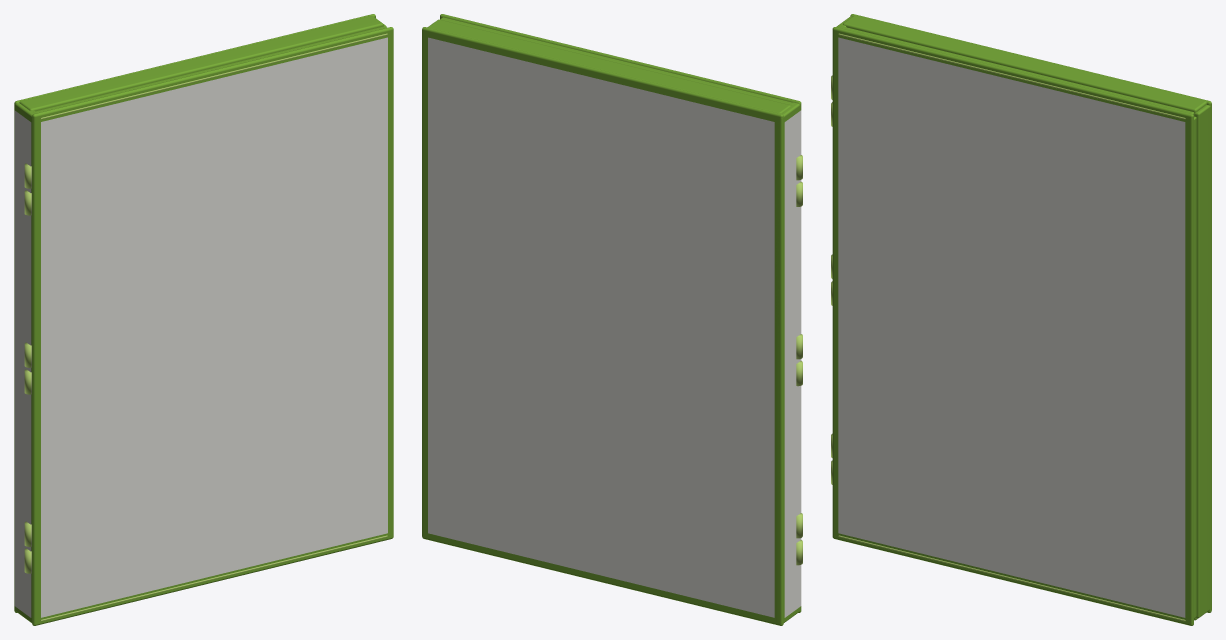
The model's file is xbox360-case.glb.
3 views of the same model, side by side, from view 1: azimuth 30°, elevation 25°; view 2: azimuth 150°, elevation 25°; view 3: azimuth 330°, elevation 25° (orthographic).
Parts seen in each view (by area): view 1: Case_Front, Lid_xbox360 injection moulded polypropylene, Case_Spine, Base_xbox360 injection moulded polypropylene, Lid_xbox360 polished moulded edges, Base_xbox360 polished moulded edges; view 2: Case_Back, Base_xbox360 injection moulded polypropylene, Case_Spine, Lid_xbox360 injection moulded polypropylene; view 3: Case_Front, Lid_xbox360 injection moulded polypropylene, Base_xbox360 injection moulded polypropylene, Lid_xbox360 polished moulded edges.
Part boxes in pixels (x1,y1,x2,y2): Case_Front: [41, 37, 387, 617]; Lid_xbox360 injection moulded polypropylene: [32, 26, 393, 625]; Case_Spine: [14, 110, 31, 617]; Base_xbox360 injection moulded polypropylene: [14, 14, 386, 622]; Lid_xbox360 polished moulded edges: [24, 33, 387, 621]; Base_xbox360 polished moulded edges: [24, 190, 31, 573]; Case_Back: [428, 37, 774, 617]; Base_xbox360 injection moulded polypropylene: [422, 19, 800, 625]; Case_Spine: [784, 110, 801, 617]; Lid_xbox360 injection moulded polypropylene: [440, 14, 801, 612]; Case_Front: [838, 37, 1185, 617]; Lid_xbox360 injection moulded polypropylene: [832, 26, 1196, 625]; Base_xbox360 injection moulded polypropylene: [836, 14, 1211, 620]; Lid_xbox360 polished moulded edges: [831, 33, 1185, 621].
Size of the model in its own units: 1.57 by 2.1 by 0.156.
